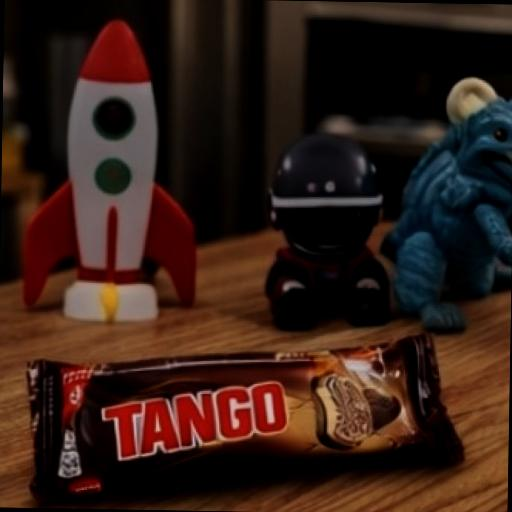tango: (4, 298, 488, 510)
